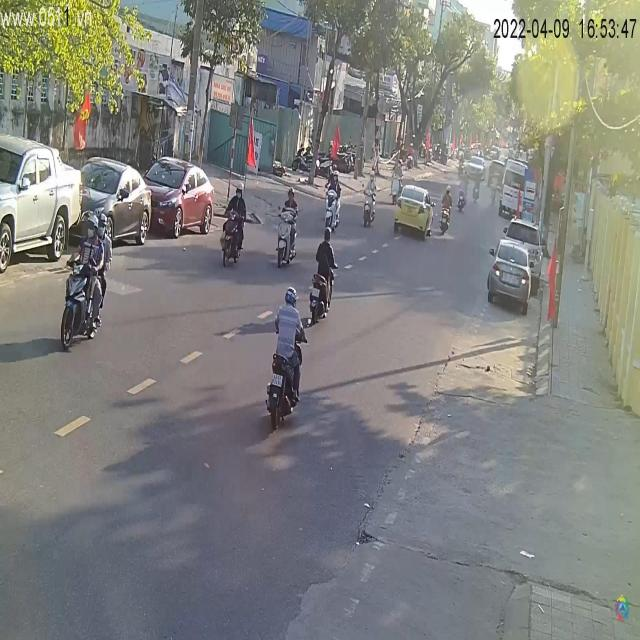bus: (498, 158, 538, 222)
car: (1, 134, 83, 278), (80, 159, 155, 250), (140, 157, 217, 241), (488, 238, 534, 318), (395, 185, 434, 239)
motorcycle: (57, 239, 111, 355), (266, 318, 305, 436), (221, 202, 246, 273), (306, 269, 333, 324), (322, 181, 342, 239), (275, 220, 297, 268), (362, 182, 378, 227)
